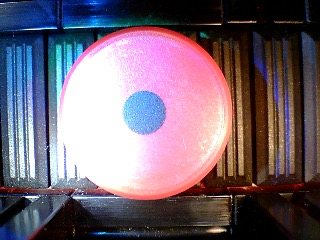BOHO: (58, 27, 232, 200)
